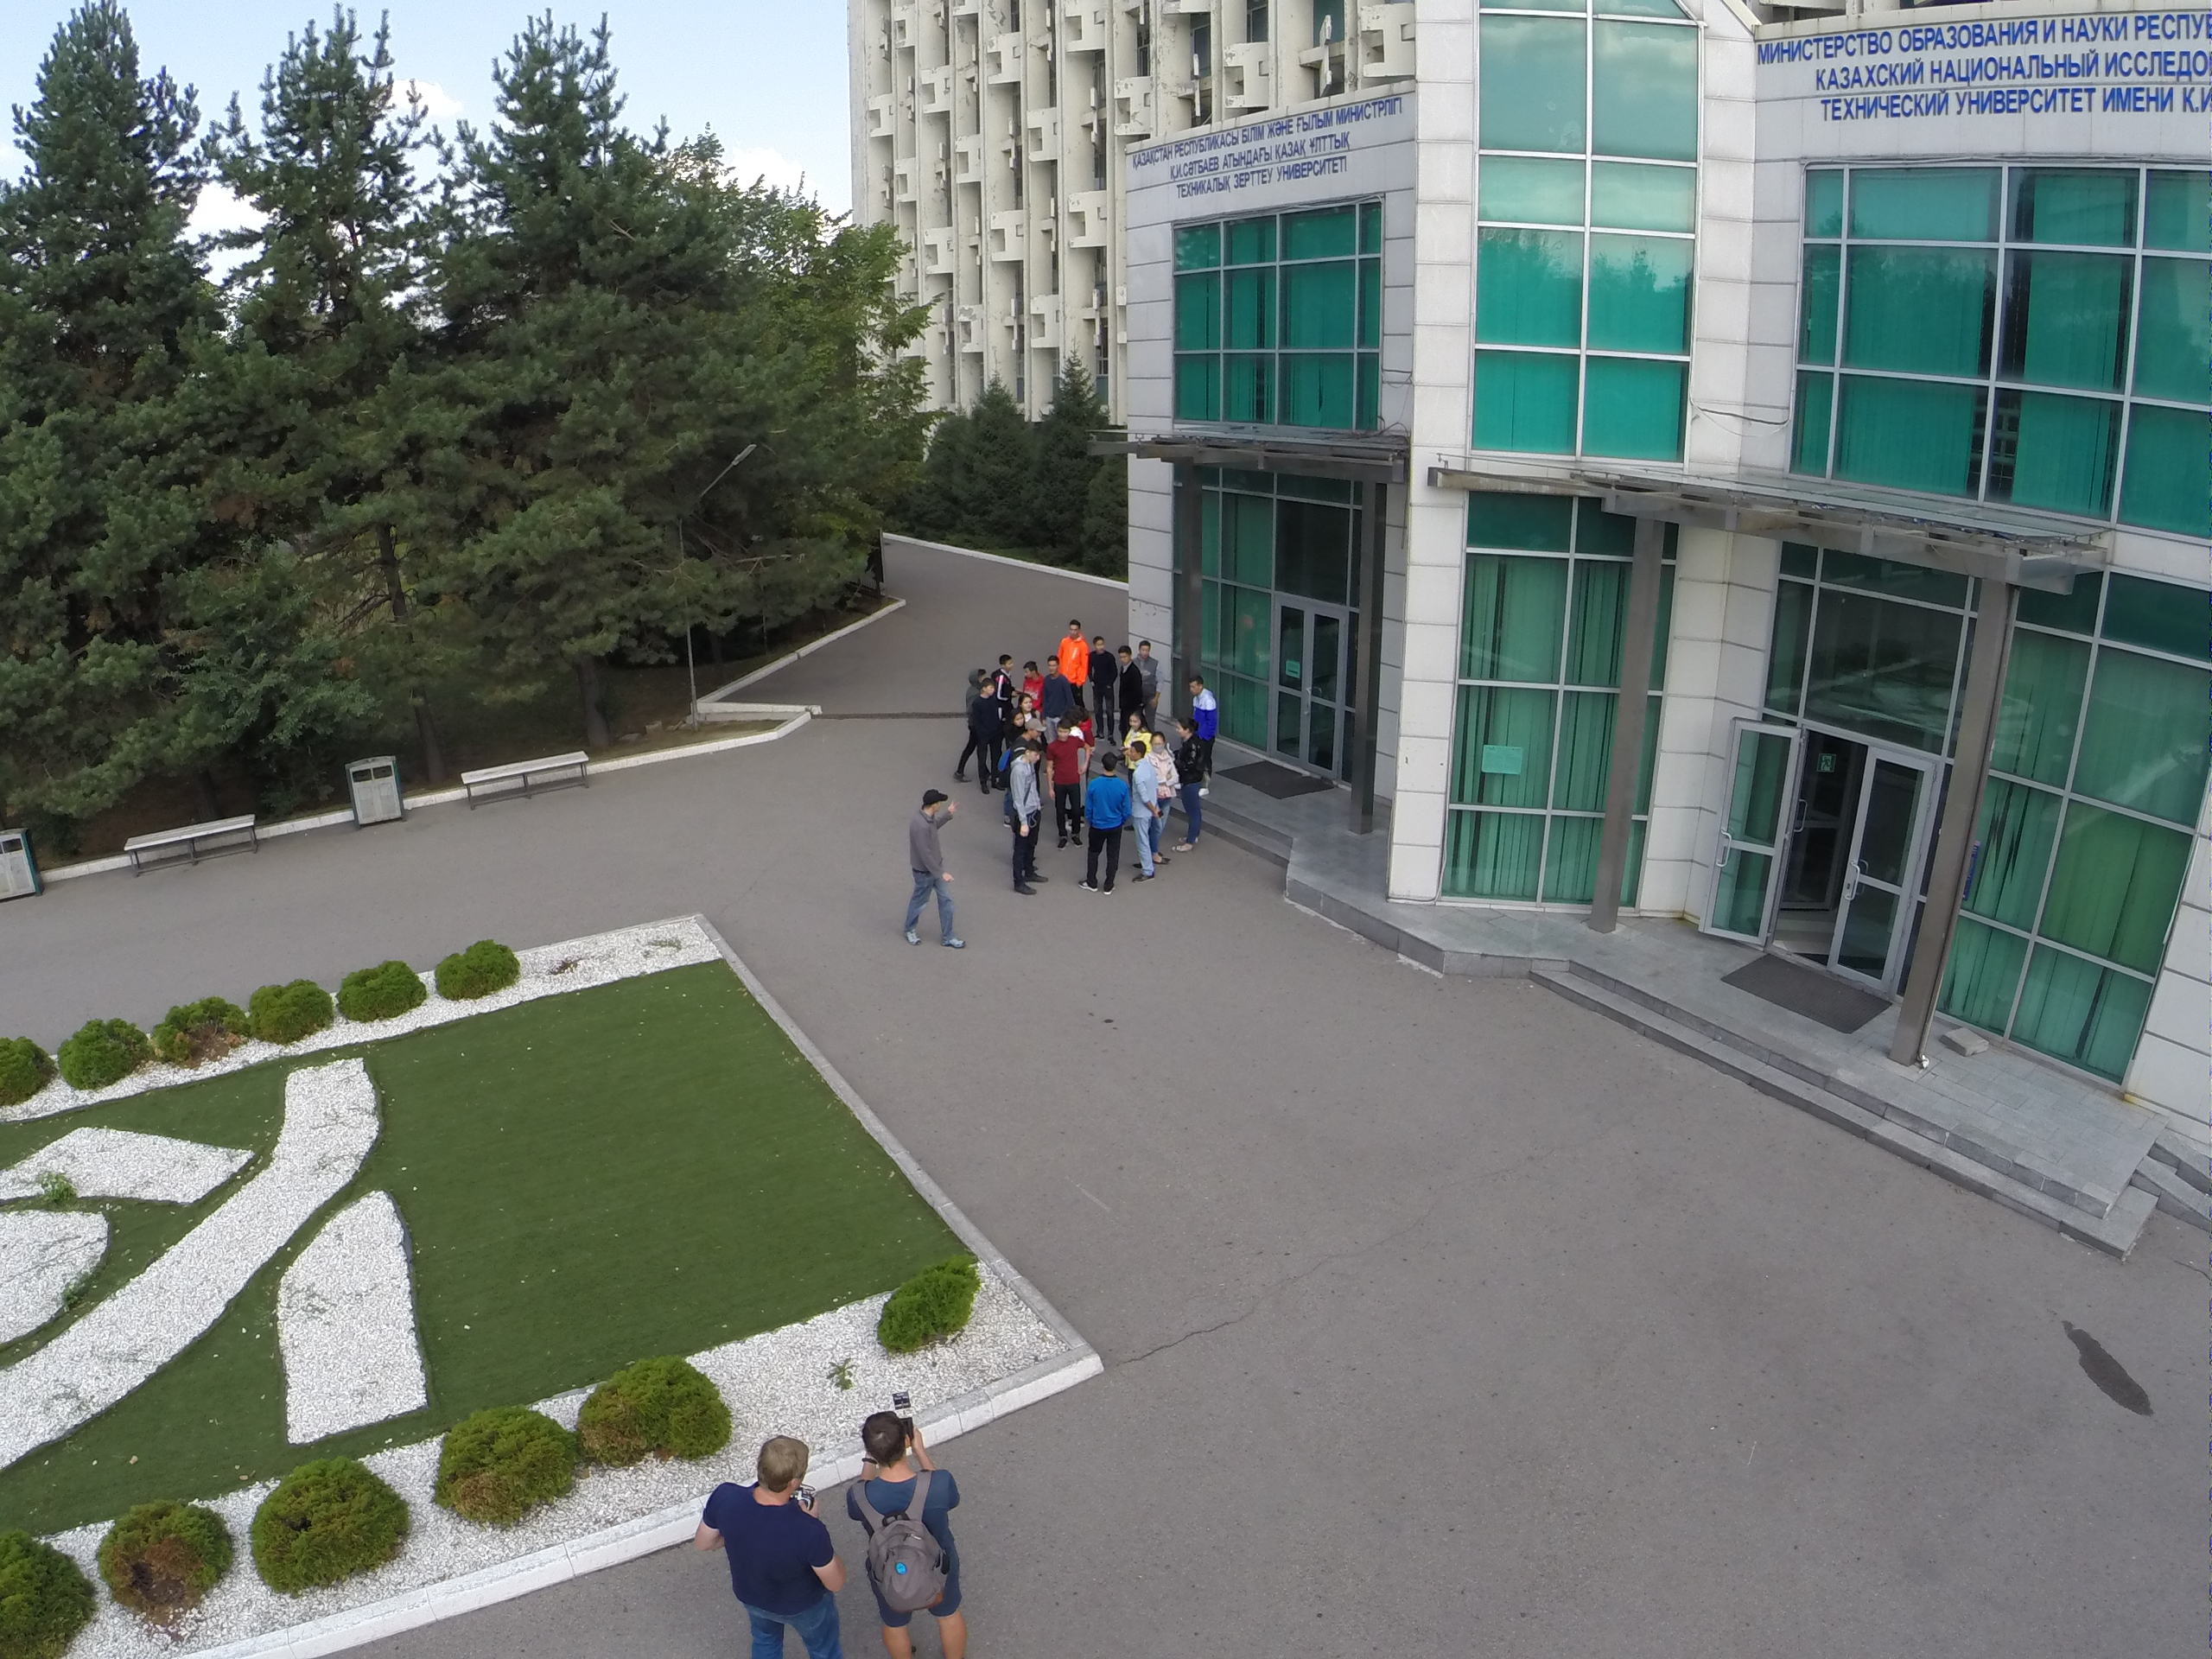person: (852, 1406, 976, 1659), (694, 1457, 826, 1659), (903, 787, 967, 953), (1000, 746, 1050, 904), (1083, 757, 1123, 896), (1169, 716, 1205, 855), (1052, 715, 1085, 847), (1127, 743, 1151, 875), (1090, 637, 1119, 746), (1150, 732, 1172, 865), (976, 676, 999, 796), (1039, 655, 1080, 714), (1137, 643, 1165, 720), (1184, 673, 1217, 729), (1059, 617, 1085, 686), (1120, 642, 1143, 710), (1023, 660, 1041, 699), (999, 653, 1014, 681)
